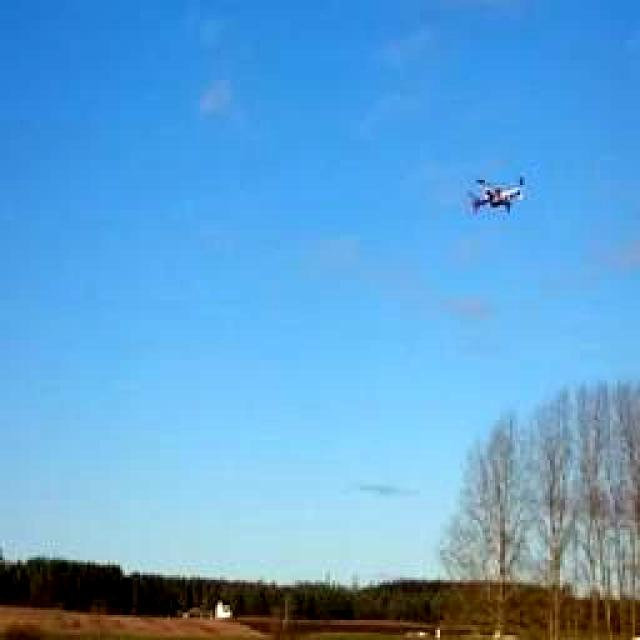bird: (476, 165, 524, 215)
